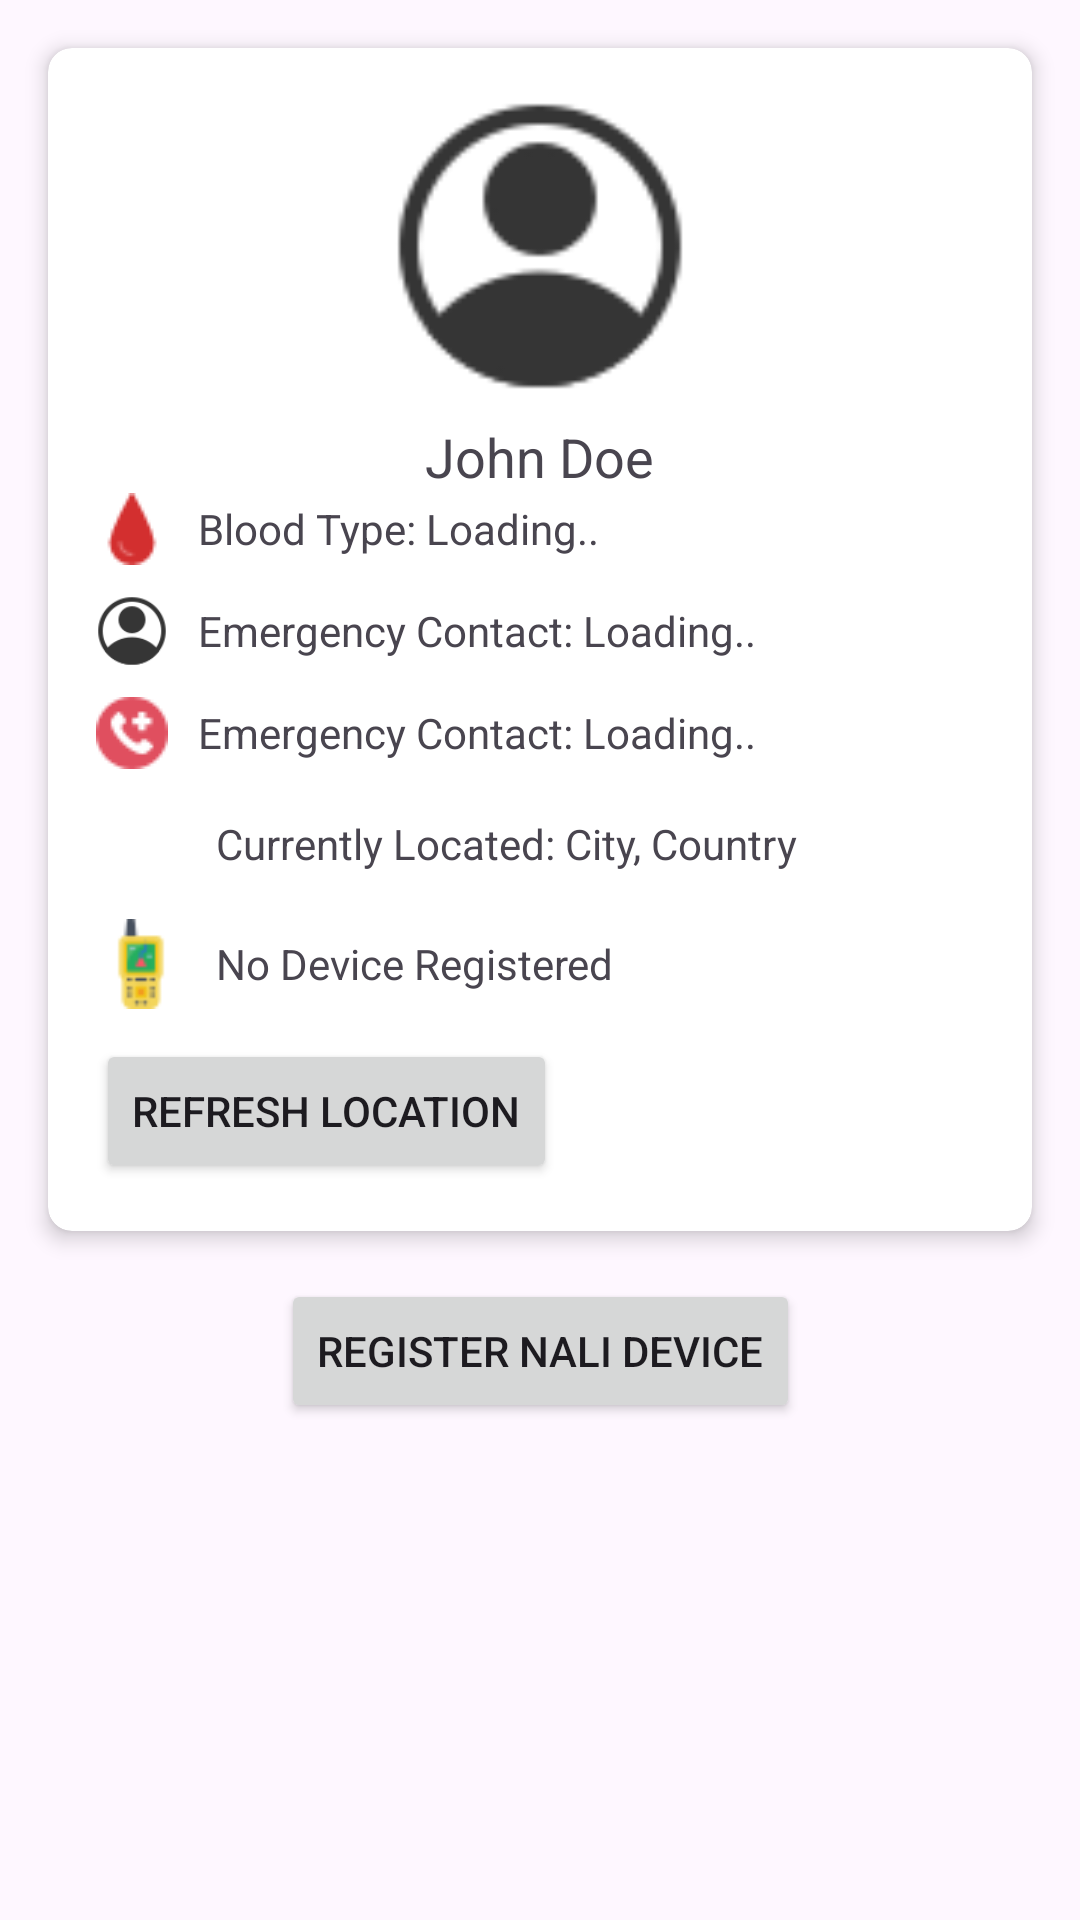

Where icons sit on this 1080px×1920px app screen, as bbox=(x1, y1, x2, y2):
account: bbox=(398, 104, 682, 388), bbox=(98, 597, 166, 665)
blooddrop: bbox=(107, 493, 157, 565)
emergencycall: bbox=(96, 697, 168, 769)
